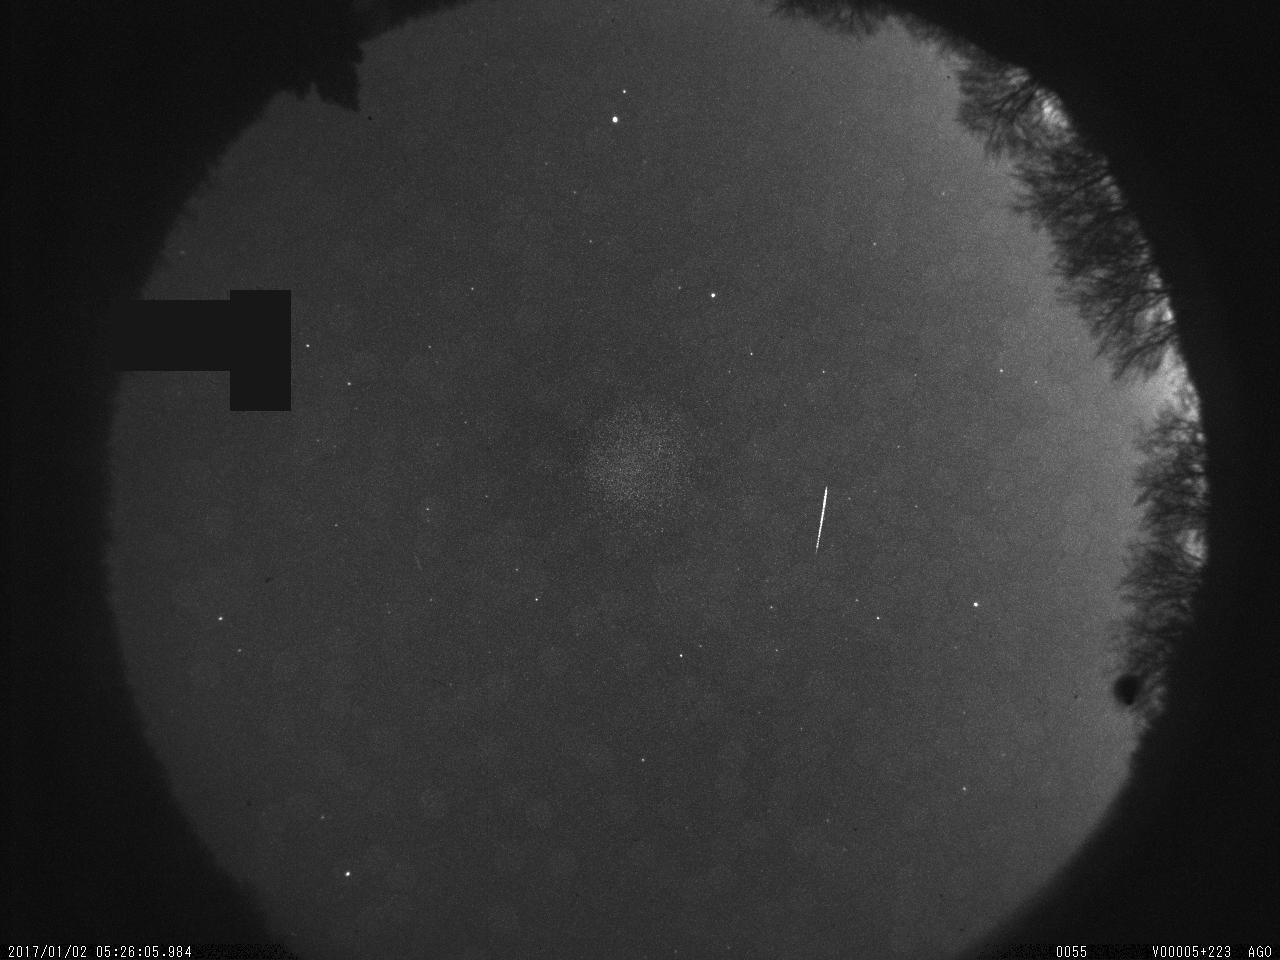meteor: (805, 479, 840, 564)
